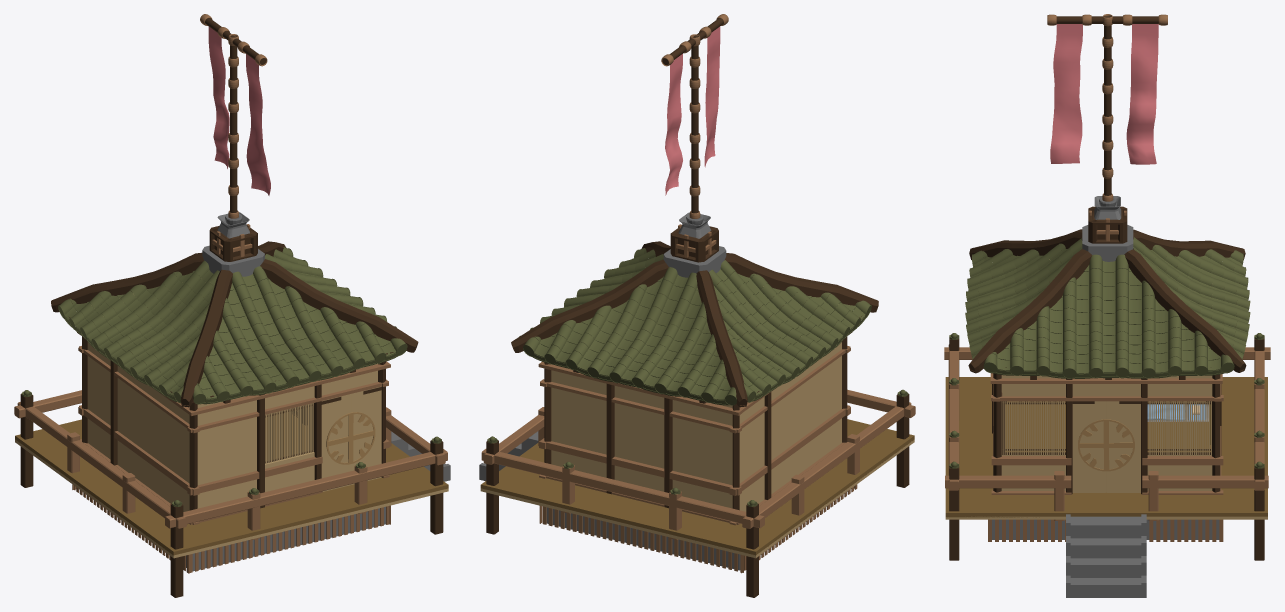
Rendered from Hut1.fbx.
3 renders of one model, left to right at view 1: azimuth 30°, elevation 25°; view 2: azimuth 150°, elevation 25°; view 3: azimuth 270°, elevation 25°, orthographic.
Visible parts, largest first — view 1: Hut1_LOD0; view 2: Hut1_LOD0; view 3: Hut1_LOD0.
Boxes of the visible parts, <box> form: Hut1_LOD0: <box>14,14,450,597</box>; Hut1_LOD0: <box>479,14,915,597</box>; Hut1_LOD0: <box>944,14,1270,597</box>.
Size of what is drawn, in the model's own units: 1385 by 1870 by 1138.
